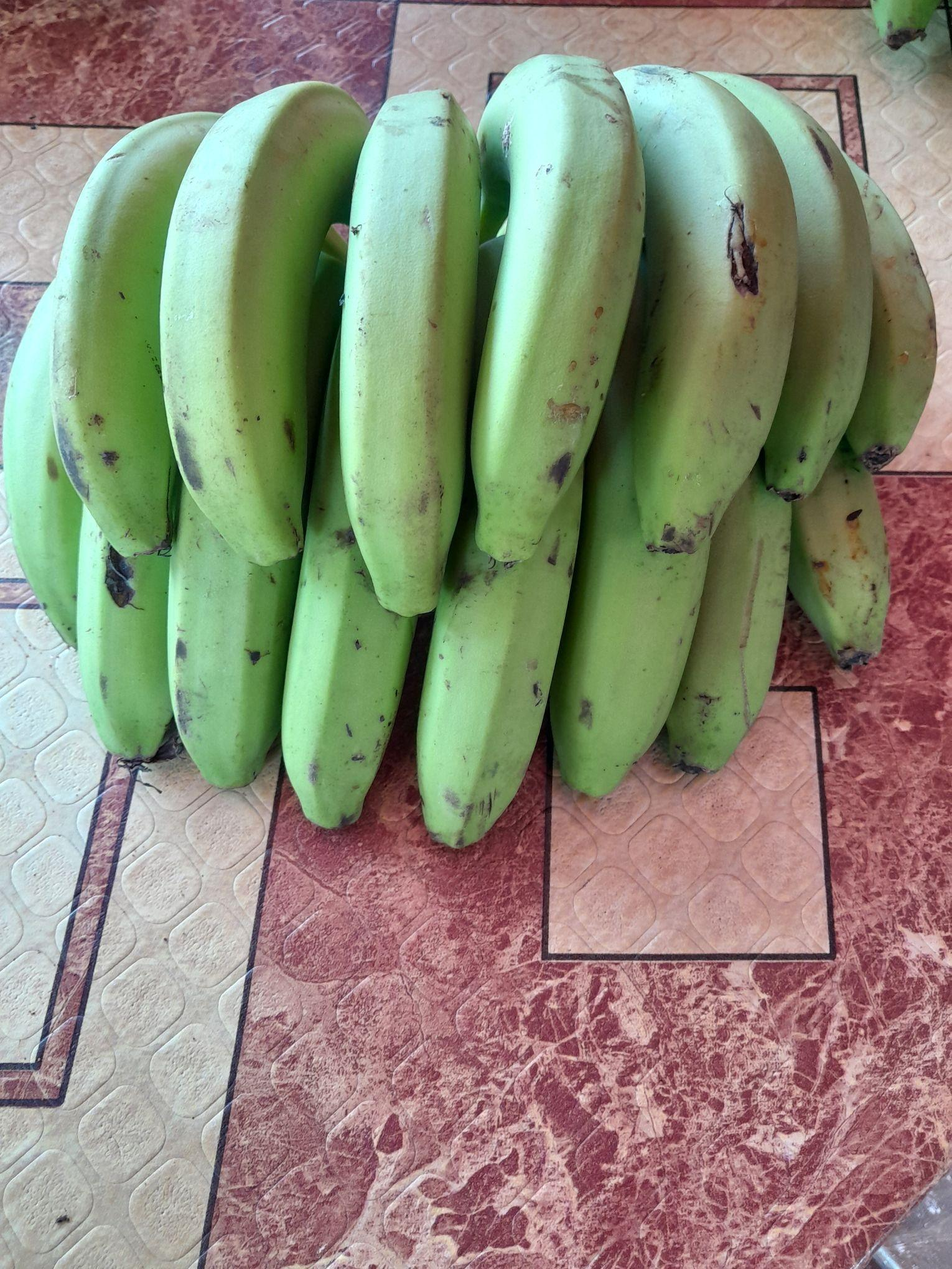Banana Unripe: (161, 82, 369, 565), (615, 64, 798, 553), (471, 55, 645, 563), (550, 280, 709, 798), (50, 112, 218, 558), (340, 89, 481, 617), (705, 72, 873, 501), (280, 347, 416, 828), (417, 473, 583, 848), (169, 488, 300, 788), (664, 466, 791, 771), (845, 159, 937, 471), (2, 288, 82, 646), (77, 508, 174, 758), (788, 444, 890, 669)
